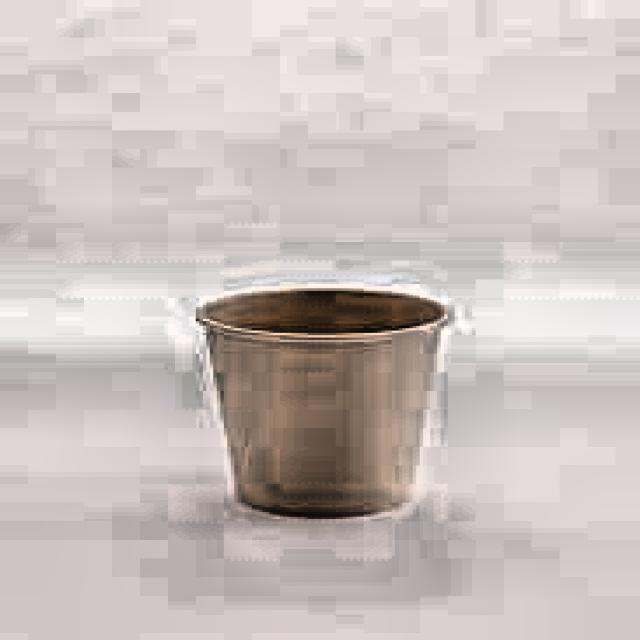Cup: (177, 278, 469, 523)
